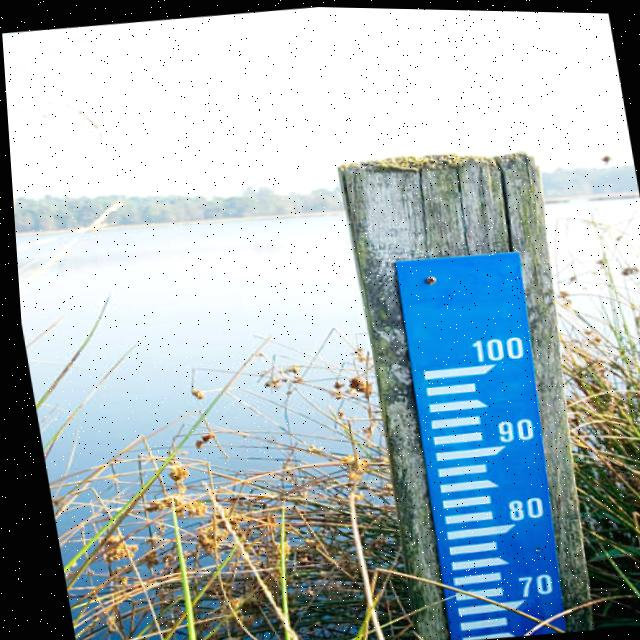water-meter: (389, 249, 579, 640)
